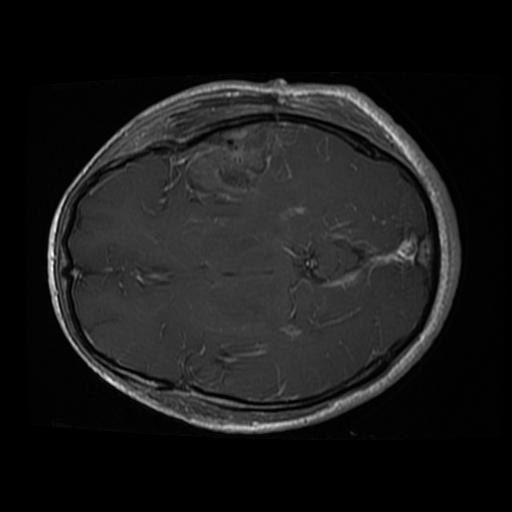glioma: (183, 122, 304, 214)
